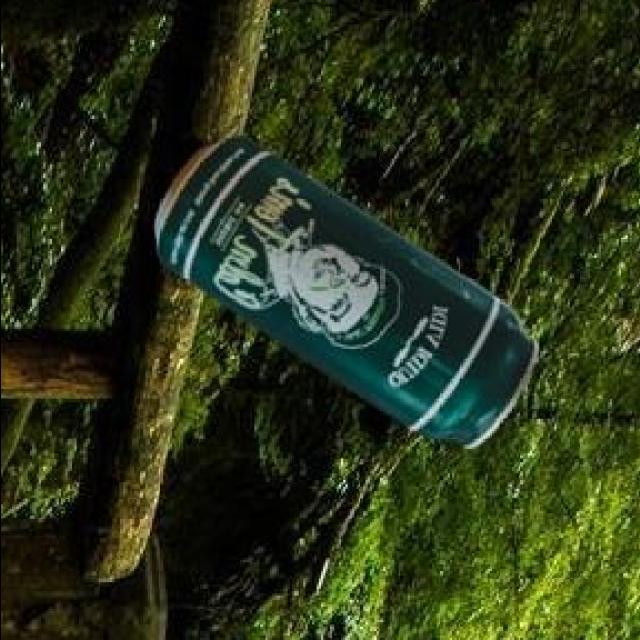logam: (157, 141, 541, 452)
